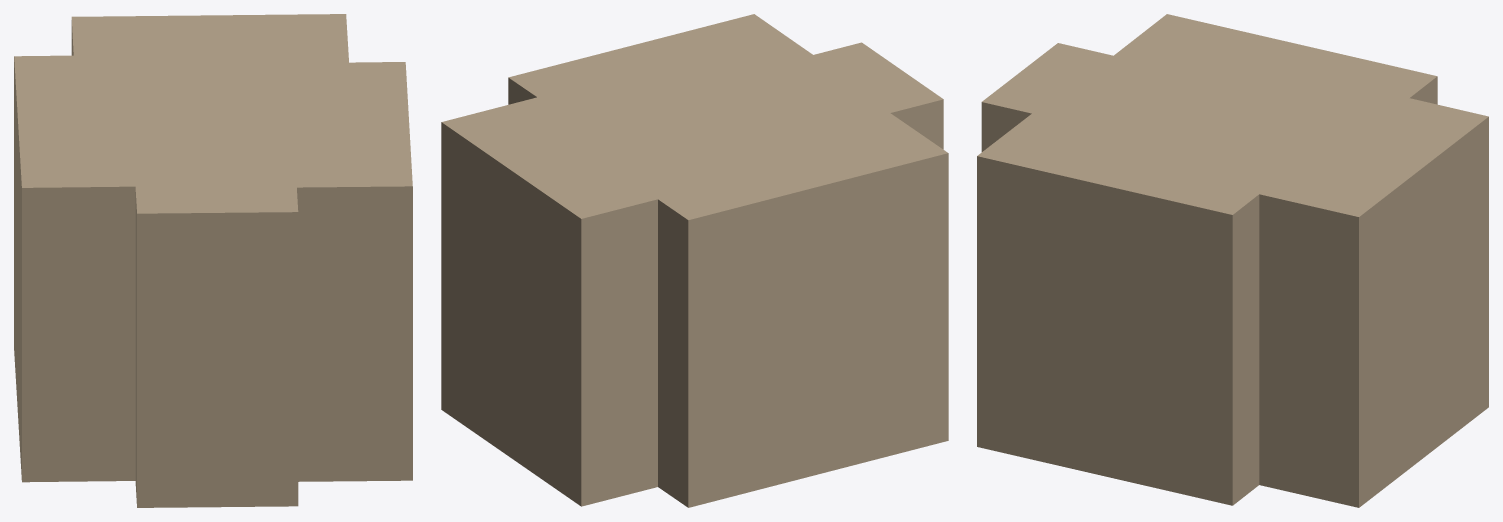
The model's file is bld_101245975.dae.
3 renders of one model, left to right at view 1: azimuth 30°, elevation 25°; view 2: azimuth 150°, elevation 25°; view 3: azimuth 270°, elevation 25°, orthographic. The views are drawn at different scales.
Visible parts, largest first — view 1: bld_101245975; view 2: bld_101245975; view 3: bld_101245975.
Boxes of the visible parts, box(x1,y1,x2,y2) form: bld_101245975: box(14, 14, 412, 507); bld_101245975: box(441, 14, 948, 507); bld_101245975: box(977, 14, 1488, 507).
Bounding box in the file's own units: 10.49 × 11.17 × 7.
